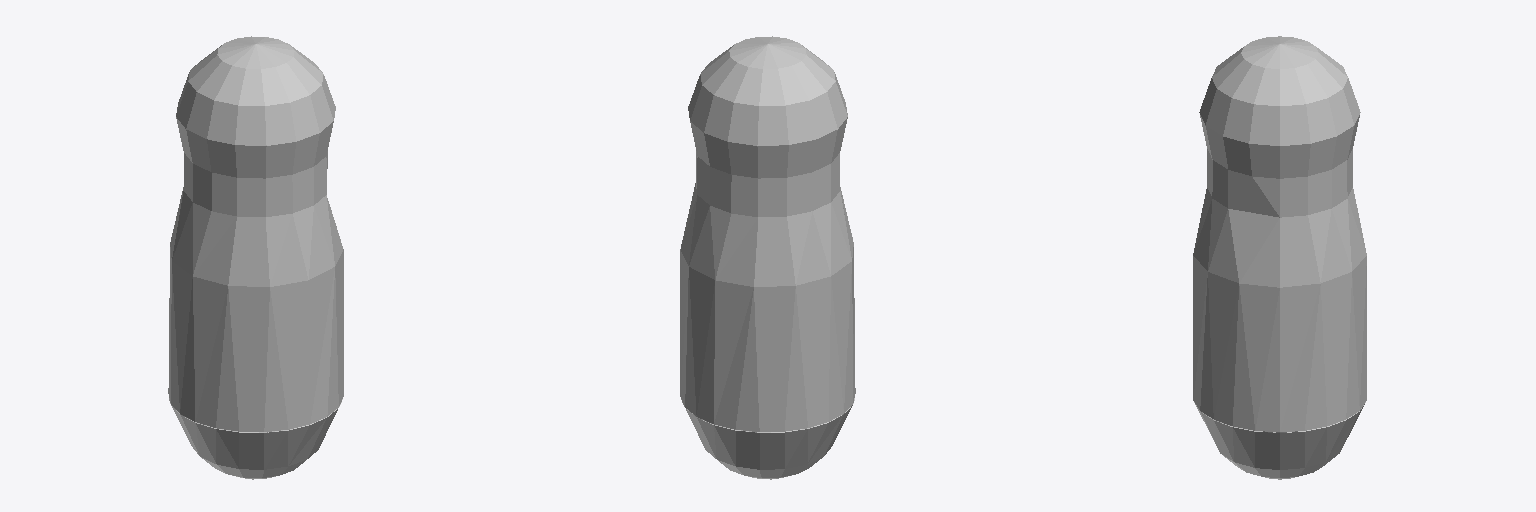
Rendered from Avatar.obj.
The picture shows the model from 3 angles: view 1: azimuth 30°, elevation 25°; view 2: azimuth 150°, elevation 25°; view 3: azimuth 270°, elevation 25°; orthographic projection.
Parts seen in each view (by area): view 1: Default; view 2: Default; view 3: Default.
Part boxes in pixels (left/top/right/bottom): Default: left=168, top=36, right=343, bottom=479; Default: left=680, top=36, right=855, bottom=479; Default: left=1193, top=36, right=1366, bottom=479.
Size of the model in its own units: 11.43 by 30.5 by 11.41.